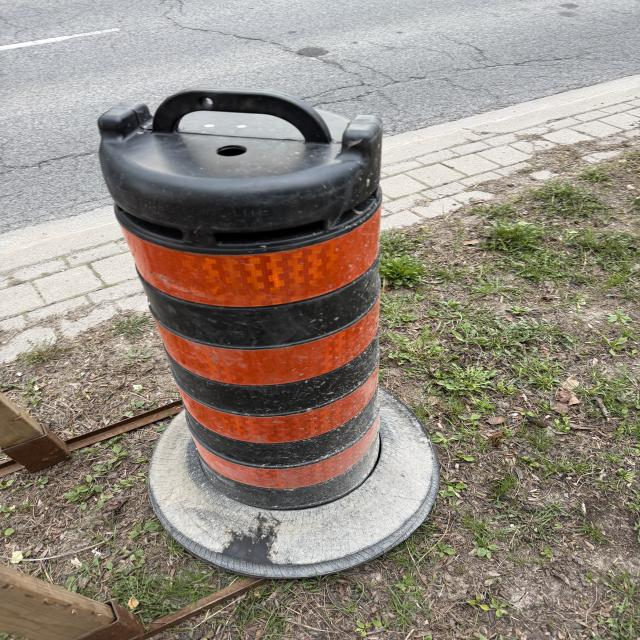Teraffic Barrel: (99, 90, 437, 577)
